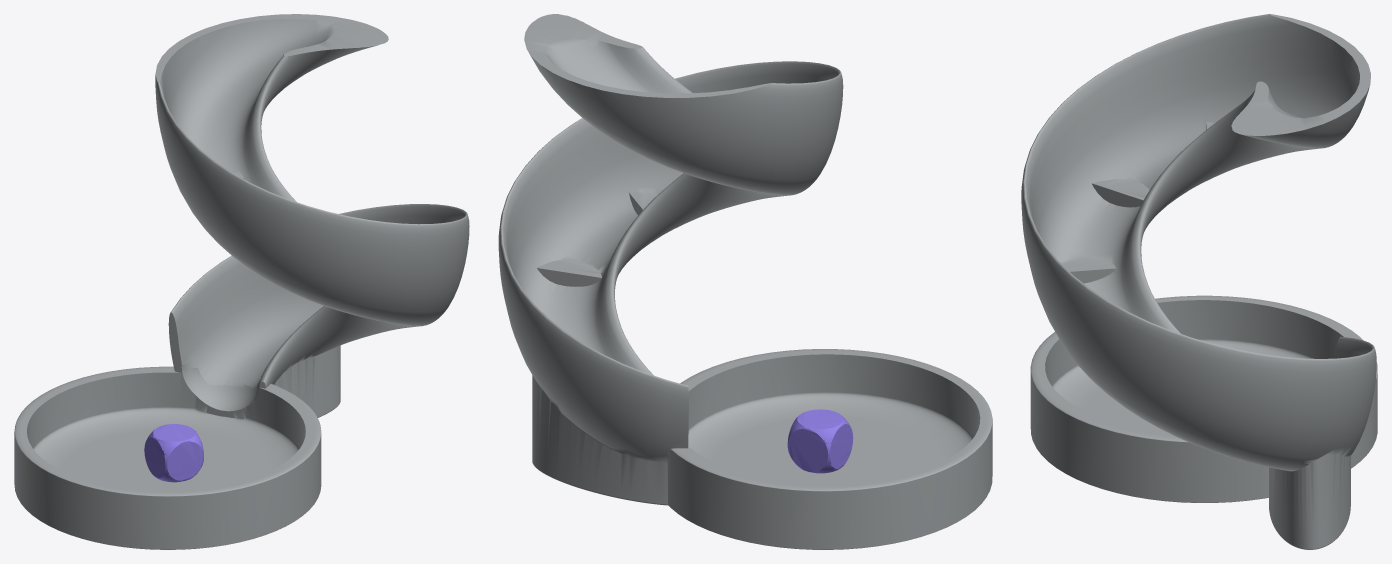
The model's file is dicetower.glb.
3 views of the same model, side by side, from view 1: azimuth 30°, elevation 25°; view 2: azimuth 150°, elevation 25°; view 3: azimuth 270°, elevation 25° (orthographic). The views are drawn at different scales.
Parts seen in each view (by area): view 1: Object_3, Object_2; view 2: Object_3, Object_2; view 3: Object_3.
Part boxes in pixels (bbox=[...]): Object_3: bbox=[14, 14, 469, 549]; Object_2: bbox=[144, 424, 203, 482]; Object_3: bbox=[498, 14, 992, 549]; Object_2: bbox=[787, 409, 853, 473]; Object_3: bbox=[1021, 14, 1377, 549].
Size of the model in its own units: 10.48 by 9.21 by 6.96.
Materials: 2 (1 with a texture image).
